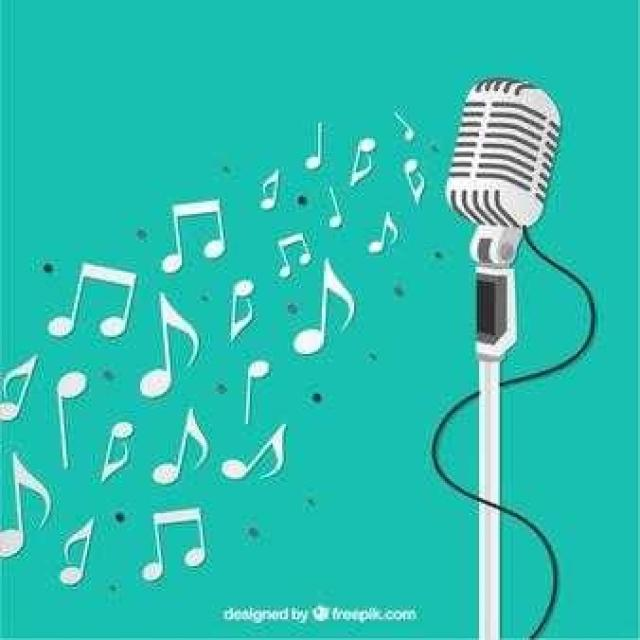microphone: (446, 74, 560, 352)
